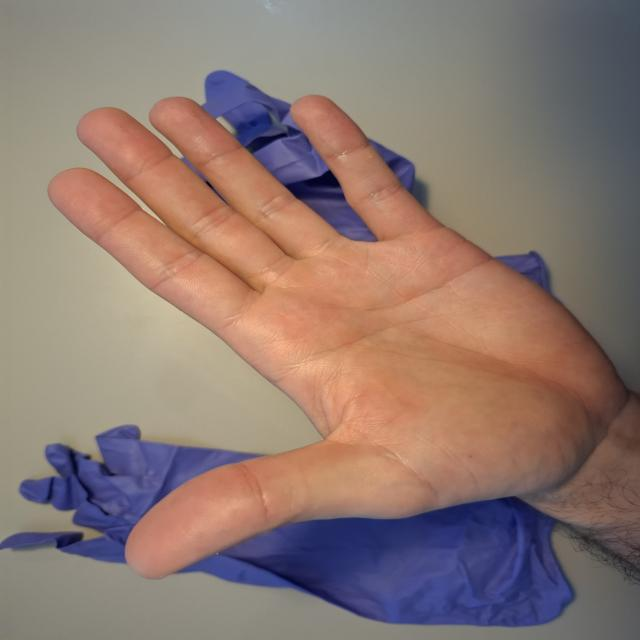glove_off: (42, 92, 627, 580)
